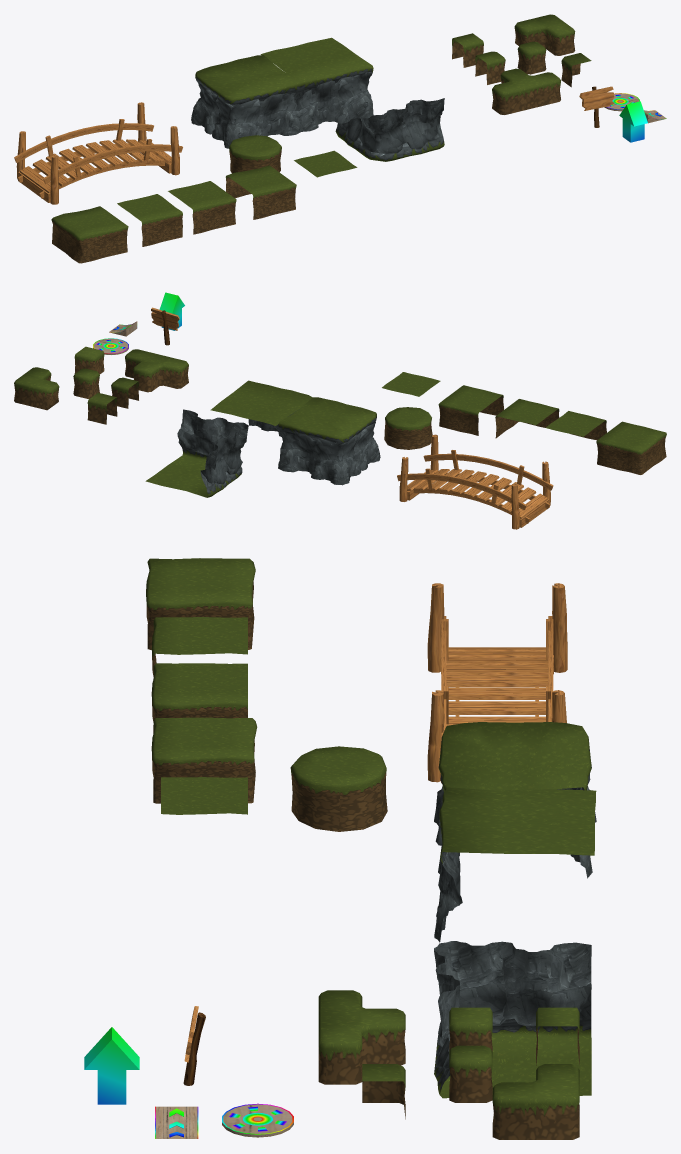
Rendered from grassworld.FBX.
The picture shows the model from 3 angles, top to bottom: view 1: azimuth 30°, elevation 25°; view 2: azimuth 150°, elevation 25°; view 3: azimuth 270°, elevation 25°; orthographic projection. The views are drawn at different scales.
Visible parts, largest first — view 1: cliff endpiece, bridge, cliff, cliff corner, modular platform full, modular platform endpiece, maze segment T, modular platform corner, modular platform wall, maze segment insidecorner, round platform, modular platform center (+6 smaller); view 2: cliff endpiece, bridge, cliff corner, cliff, modular platform full, modular platform endpiece, maze segment T, round platform, maze segment insidecorner, modular platform corner, modular platform wall, modular platform center (+7 smaller); view 3: cliff corner, bridge, cliff, cliff endpiece, round platform, modular platform full, modular platform endpiece, maze segment T, maze segment insidecorner, modular platform corner, modular platform wall, modular platform center (+8 smaller).
Boxes of the visible parts, box(x1,y1,x2,y2) form: cliff endpiece: box(191, 55, 301, 148); bridge: box(14, 102, 182, 204); cliff: box(260, 37, 373, 131); cliff corner: box(335, 98, 444, 161); modular platform full: box(51, 206, 128, 263); modular platform endpiece: box(225, 165, 296, 219); maze segment T: box(492, 68, 560, 114); modular platform corner: box(168, 181, 236, 234); modular platform wall: box(117, 194, 182, 246); maze segment insidecorner: box(514, 14, 575, 55); round platform: box(229, 135, 281, 173); modular platform center: box(294, 150, 357, 177); cliff endpiece: box(278, 397, 380, 485); bridge: box(397, 434, 553, 529); cliff corner: box(145, 409, 248, 497); cliff: box(210, 380, 312, 436); modular platform full: box(596, 421, 666, 474); modular platform endpiece: box(438, 385, 503, 435); maze segment T: box(125, 349, 188, 392); round platform: box(384, 407, 432, 449); maze segment insidecorner: box(14, 367, 59, 410); modular platform corner: box(495, 399, 559, 438); modular platform wall: box(546, 411, 606, 440); modular platform center: box(382, 372, 440, 396); cliff corner: box(434, 941, 591, 1098); bridge: box(427, 583, 567, 783); cliff: box(434, 787, 596, 942); cliff endpiece: box(434, 722, 596, 878); round platform: box(290, 746, 387, 831); modular platform full: box(146, 558, 255, 649); modular platform endpiece: box(151, 717, 257, 803); maze segment T: box(318, 990, 405, 1084); maze segment insidecorner: box(492, 1064, 579, 1139); modular platform corner: box(151, 663, 247, 733); modular platform wall: box(151, 617, 247, 676); modular platform center: box(161, 777, 247, 814).
Size of what is drawn, in the model's own units: 1146 by 186 by 464.
4 materials, 4 textured.
